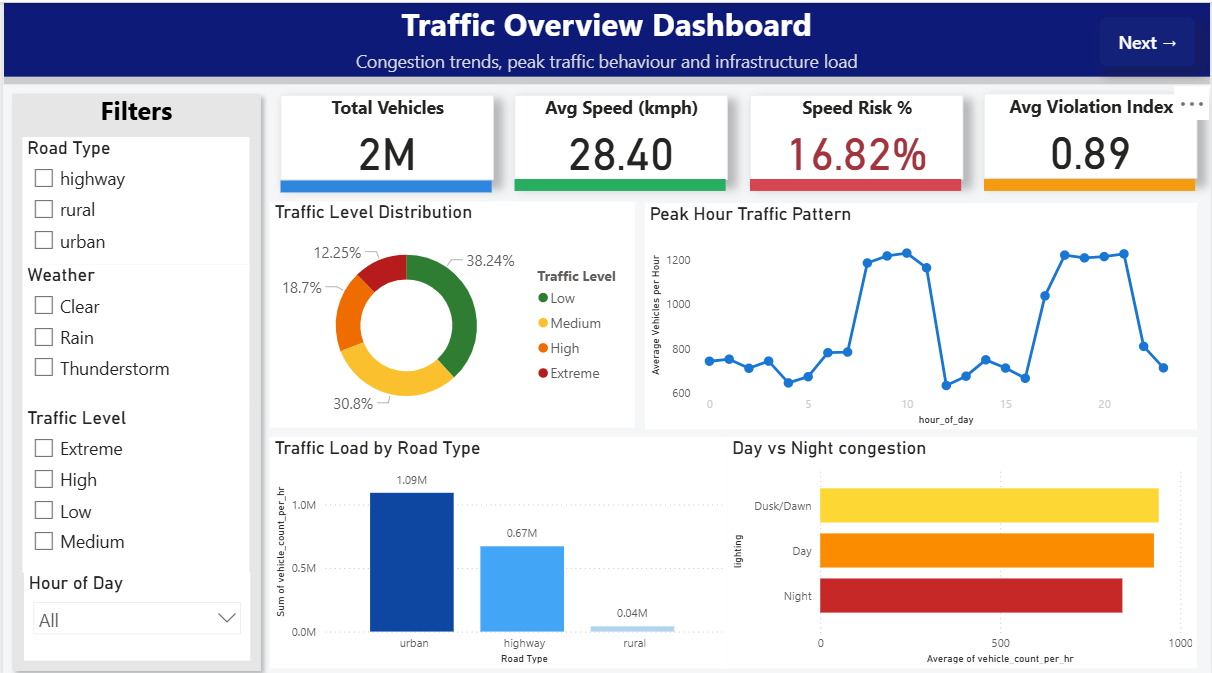

The dashboard page shown, as its layout file describes it:
{"tool":"powerbi","page":{"name":"Traffic Overview","canvas":[1280,720],"ordinal":0},"visuals":[{"type":"card","title":"Total Vehicles","fields":{"Values":["Sum(traffic_cleaned_dataset.vehicle_count_per_hr)"]},"box":[294.3,98.6,225.9,90],"z":0},{"type":"card","title":"Avg Speed (kmph)","fields":{"Values":["Avg(traffic_cleaned_dataset.avg_speed_kmph)"]},"box":[542.4,98.6,225.9,90],"z":1000},{"type":"card","title":"Speed Risk %","fields":{"Values":["traffic_cleaned_dataset.Speed Risk %"]},"box":[792.1,98.6,225.9,90],"z":2000},{"type":"card","title":"Avg Violation Index","fields":{"Values":["Avg(traffic_cleaned_dataset.violations_count)"]},"box":[1040.3,97,225.9,90],"z":3000},{"type":"donutChart","title":"Traffic Level Distribution","fields":{"Category":["traffic_cleaned_dataset.traffic_level"],"Y":["CountNonNull(traffic_cleaned_dataset.traffic_level)"]},"box":[283.1,211.6,386.5,240],"z":4000},{"type":"lineChart","title":"Peak Hour Traffic Pattern","fields":{"Category":["traffic_cleaned_dataset.hour_of_day"],"Y":["Avg(traffic_cleaned_dataset.vehicle_count_per_hr)"]},"box":[680.8,213.1,585.3,240],"z":5000},{"type":"clusteredColumnChart","title":"Traffic Load by Road Type","fields":{"Category":["traffic_cleaned_dataset.road_type"],"Y":["Sum(traffic_cleaned_dataset.vehicle_count_per_hr)"]},"box":[283.1,461.3,485.1,245],"z":6000},{"type":"barChart","title":"Day vs Night congestion","fields":{"Category":["traffic_cleaned_dataset.lighting"],"Y":["Avg(traffic_cleaned_dataset.vehicle_count_per_hr)"]},"box":[768.3,461.3,497.9,245],"z":7000},{"type":"shape","box":[0,87.6,282.8,631.4],"z":8000},{"type":"slicer","title":"Weather","fields":{"Values":["traffic_cleaned_dataset.weather"]},"box":[19.9,278.8,241,151.4],"z":9000},{"type":"slicer","title":"Road Type","fields":{"Values":["traffic_cleaned_dataset.road_type"]},"box":[19.9,143.4,241,135.4],"z":10000},{"type":"slicer","title":"Traffic Level","fields":{"Values":["traffic_cleaned_dataset.traffic_level"]},"box":[19.9,430.2,241,175.3],"z":11000},{"type":"slicer","title":"Hour of Day","fields":{"Values":["traffic_cleaned_dataset.hour_of_day"]},"box":[22.3,604.4,240.2,93.8],"z":12000},{"type":"shape","title":"Traffic Overview Dashboard","box":[0,0,1280.4,87.5],"z":13000},{"type":"shape","box":[294.3,189.3,224.3,12.7],"z":14000},{"type":"shape","box":[542.4,187.7,224.3,12.7],"z":15000},{"type":"shape","box":[792.1,187.7,224.3,12.7],"z":16000},{"type":"shape","box":[1040.3,187.7,224.3,12.7],"z":17000},{"type":"actionButton","box":[1162.7,15.9,101.8,52.5],"z":18000}]}

Visuals, with their boxes in screenshot pixels (x1, y1, x2, y2), scaled from the page's 1280x720 canvas onto the 1212x673 screenshot:
"Total Vehicles" card: x1=279 y1=92 x2=493 y2=176
"Avg Speed (kmph)" card: x1=514 y1=92 x2=727 y2=176
"Speed Risk %" card: x1=750 y1=92 x2=964 y2=176
"Avg Violation Index" card: x1=985 y1=91 x2=1199 y2=175
"Traffic Level Distribution" donutChart: x1=268 y1=198 x2=634 y2=422
"Peak Hour Traffic Pattern" lineChart: x1=645 y1=199 x2=1199 y2=424
"Traffic Load by Road Type" clusteredColumnChart: x1=268 y1=431 x2=727 y2=660
"Day vs Night congestion" barChart: x1=727 y1=431 x2=1199 y2=660
shape: x1=0 y1=82 x2=268 y2=672
"Weather" slicer: x1=19 y1=261 x2=247 y2=402
"Road Type" slicer: x1=19 y1=134 x2=247 y2=261
"Traffic Level" slicer: x1=19 y1=402 x2=247 y2=566
"Hour of Day" slicer: x1=21 y1=565 x2=249 y2=653
"Traffic Overview Dashboard" shape: x1=0 y1=0 x2=1211 y2=82
shape: x1=279 y1=177 x2=491 y2=189
shape: x1=514 y1=175 x2=726 y2=187
shape: x1=750 y1=175 x2=962 y2=187
shape: x1=985 y1=175 x2=1197 y2=187
actionButton: x1=1101 y1=15 x2=1197 y2=64
